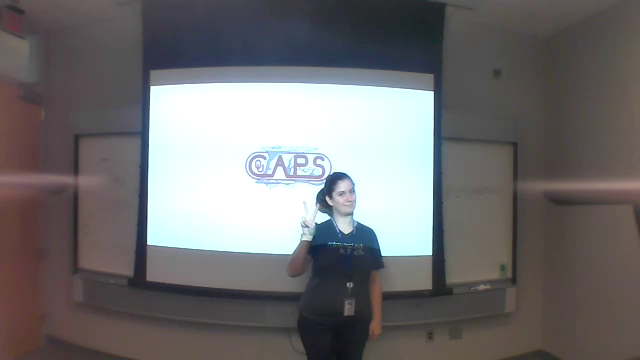peace: (297, 199, 324, 238)
